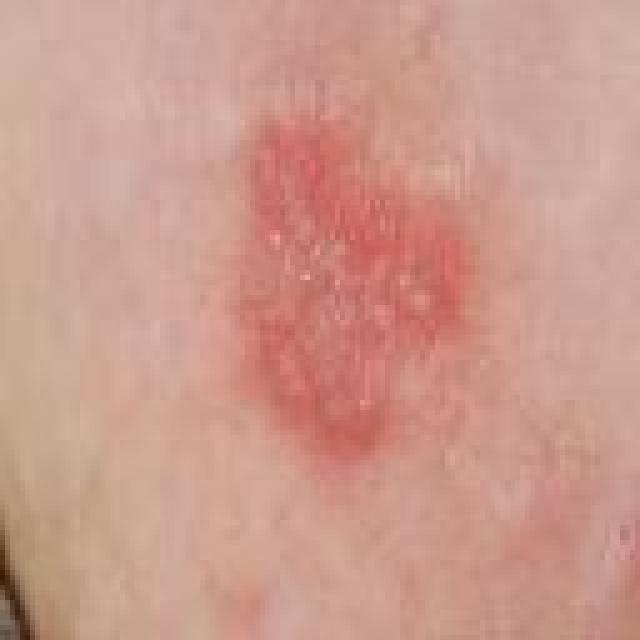Shingles: (236, 129, 452, 434)
